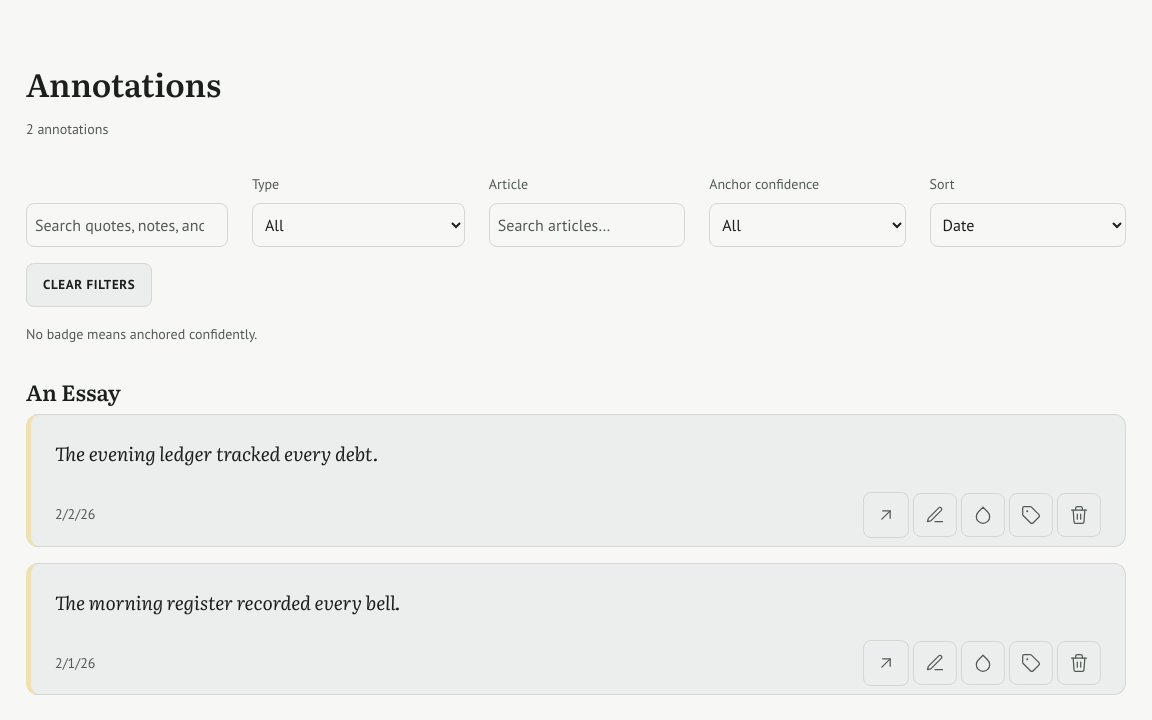
Test: ReviewView removal routing (issue #174 — proportional delete) › a NO-NOTE row removes immediately — no dialog, announced, invalidated, focus to the neighbor row
Click the button named "Remove highlight: The evening ledger tracked every debt." at point(1079, 515), box [1057, 493, 1101, 537]
(page scrolled)
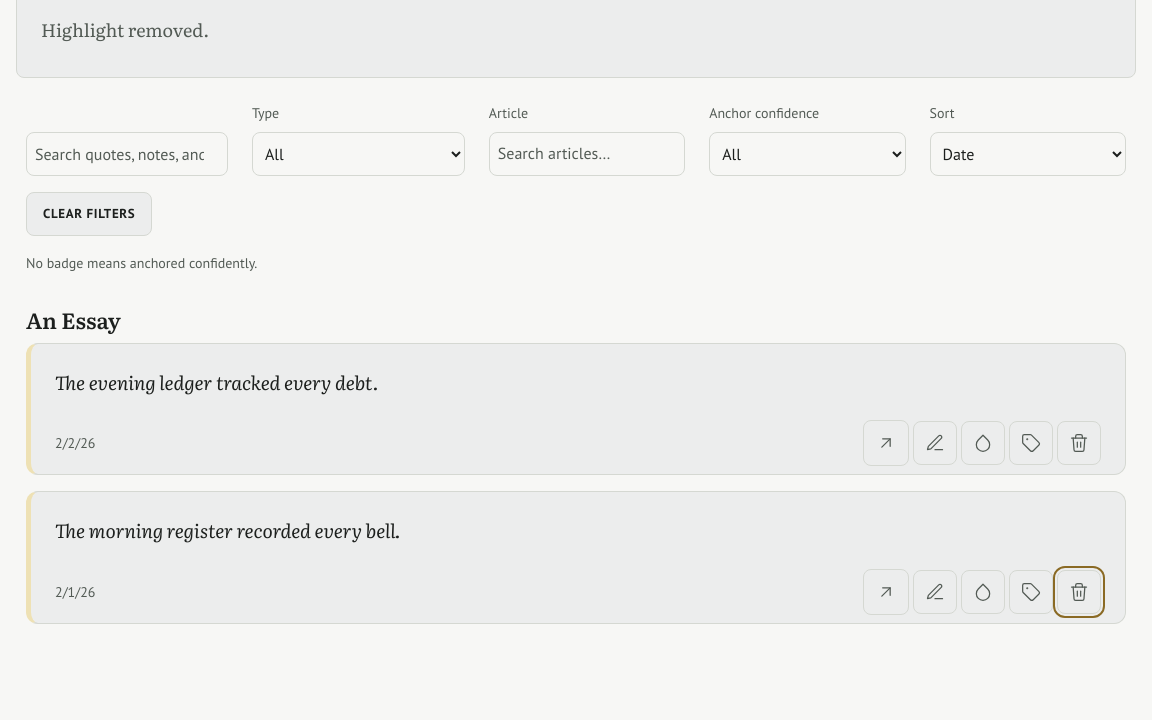
Expected: the text "Highlight removed." is shown, [41, 16, 209, 43]
